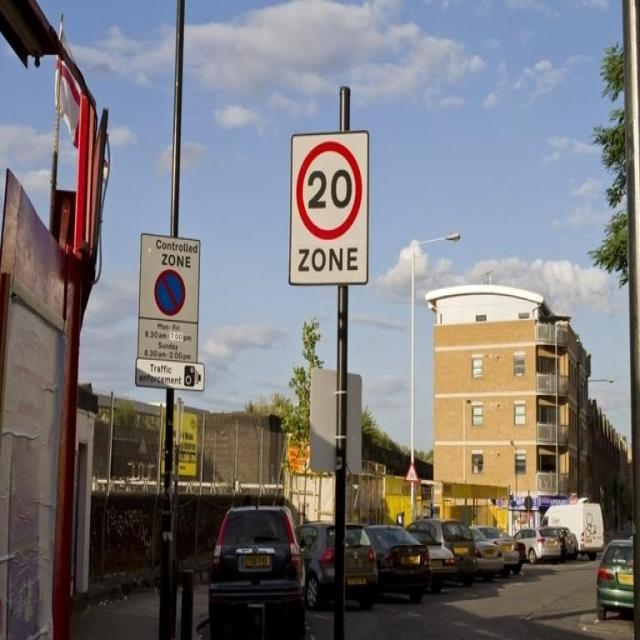forb_speed_over_20: (295, 139, 364, 243)
